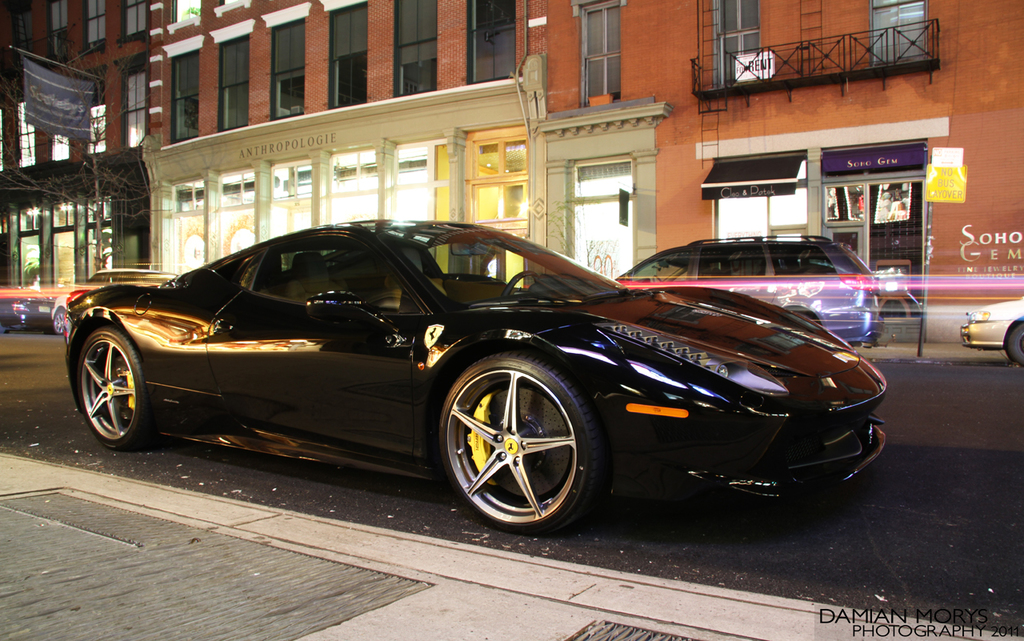Car: (71, 224, 898, 530), (618, 232, 880, 347), (54, 269, 171, 336), (963, 292, 1023, 363), (0, 287, 49, 330)
